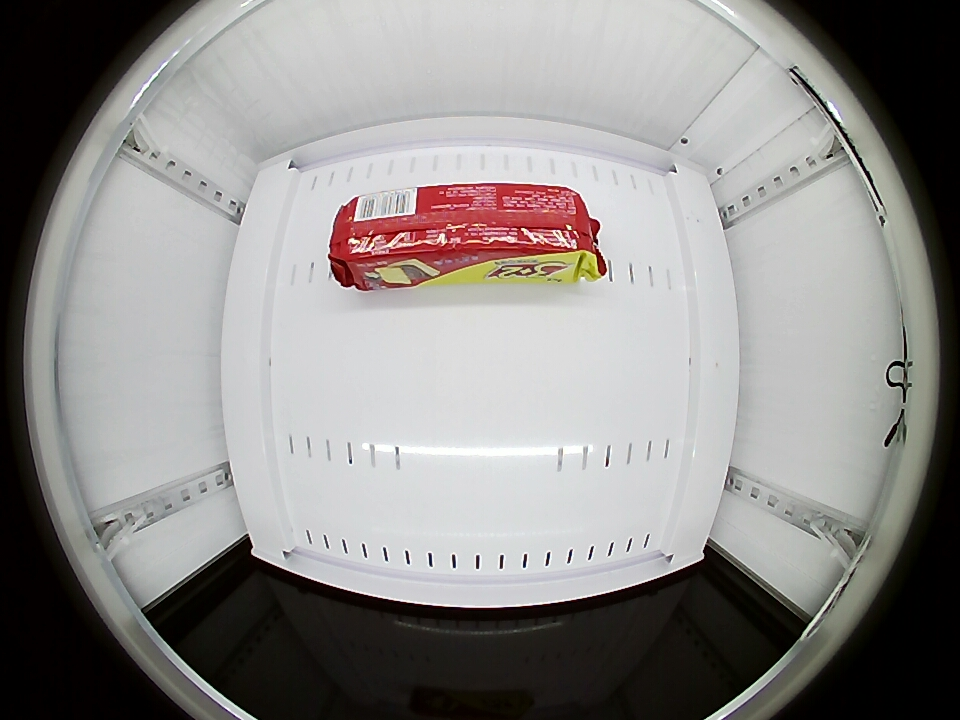3jia2: (327, 183, 601, 282)
